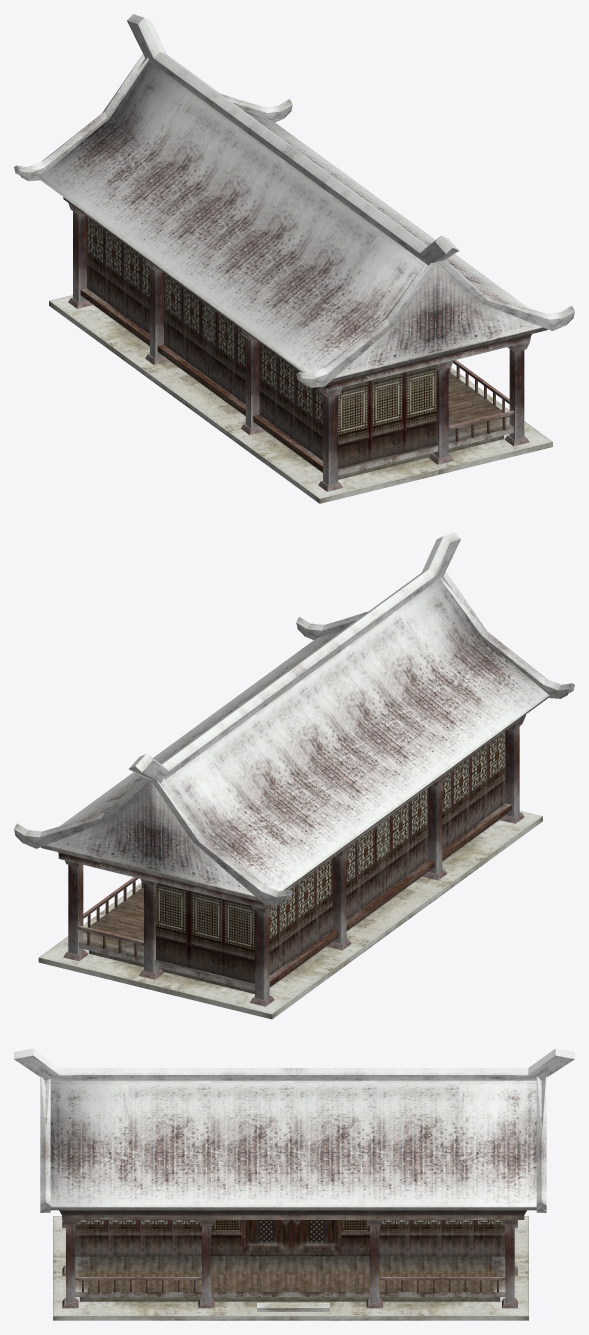
The model's file is snow-033-guesthouse-02.fbx.
3 views of the same model, one above another, from view 1: azimuth 30°, elevation 25°; view 2: azimuth 150°, elevation 25°; view 3: azimuth 270°, elevation 25° (orthographic). The views are drawn at different scales.
Visible parts, largest first — view 1: snow-033-guesthouse-01, snow-033-guesthouse-02; view 2: snow-033-guesthouse-01, snow-033-guesthouse-02; view 3: snow-033-guesthouse-01, snow-033-guesthouse-02.
Part boxes in pixels (left/top/right/bottom): snow-033-guesthouse-01: left=14, top=14, right=574, bottom=491; snow-033-guesthouse-02: left=49, top=211, right=552, bottom=503; snow-033-guesthouse-01: left=14, top=532, right=574, bottom=1006; snow-033-guesthouse-02: left=38, top=726, right=542, bottom=1019; snow-033-guesthouse-01: left=14, top=1048, right=574, bottom=1311; snow-033-guesthouse-02: left=53, top=1210, right=528, bottom=1320.
Size of the model in its own units: 13.56 by 11.85 by 27.45.
